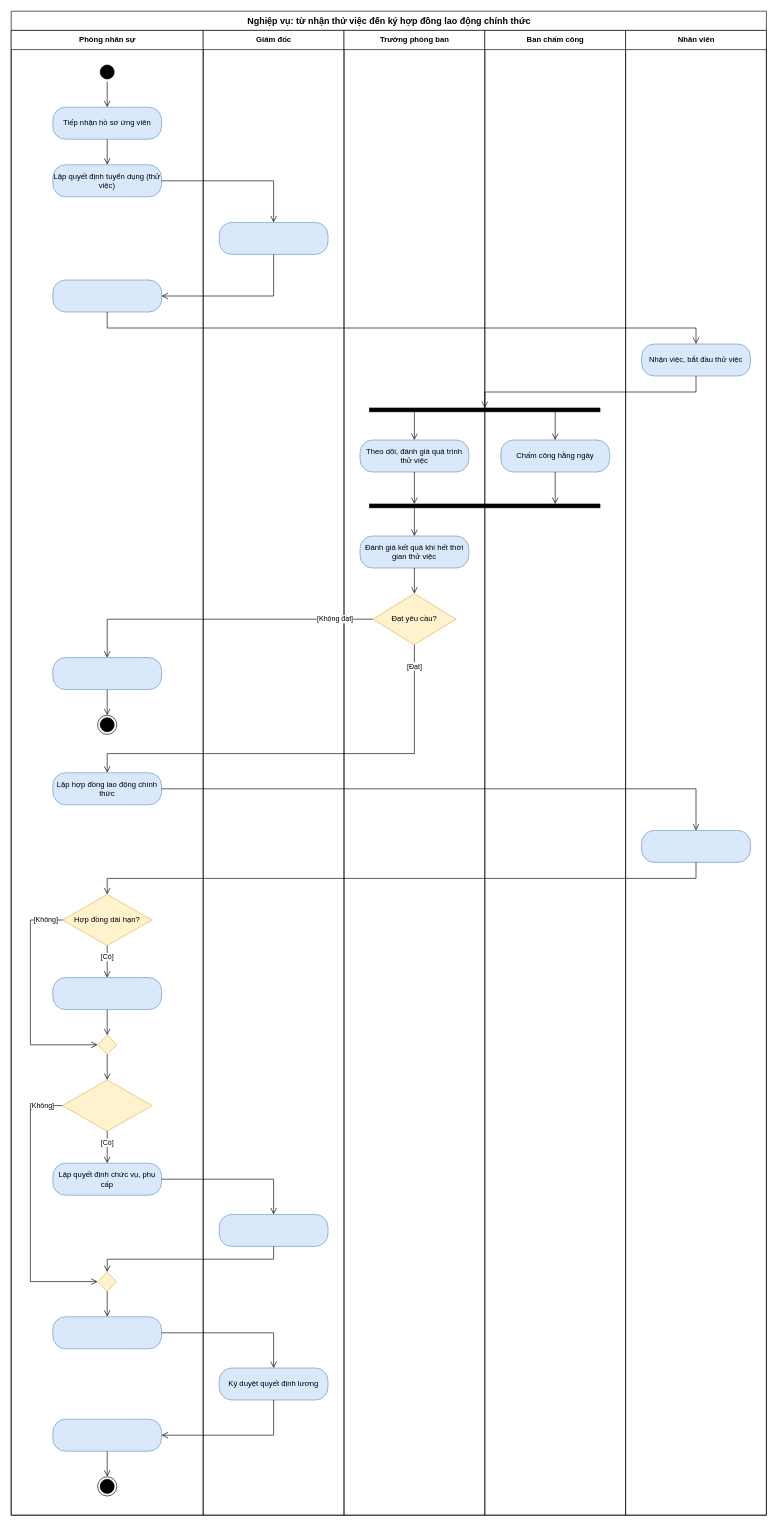
This 778x1526 diagram has some shape labels left out. Each missing label, with the centre of its shape:
Bàn giao nhân viên về phòng ban thử việc: the point at 107,295
Có bổ nhiệm chức vụ?: the point at 107,1105
Cập nhật hồ sơ nhân viên chính thức: the point at 107,1435
Ký duyệt quyết định chức vụ: the point at 273,1230
Ký duyệt quyết định tuyển dụng: the point at 273,238
Ký hợp đồng lao động: the point at 695,846
Lập hồ sơ BHYT, BHXH: the point at 107,993
Lập quyết định lương: the point at 107,1332
Ra quyết định chấm dứt thử việc: the point at 107,673
